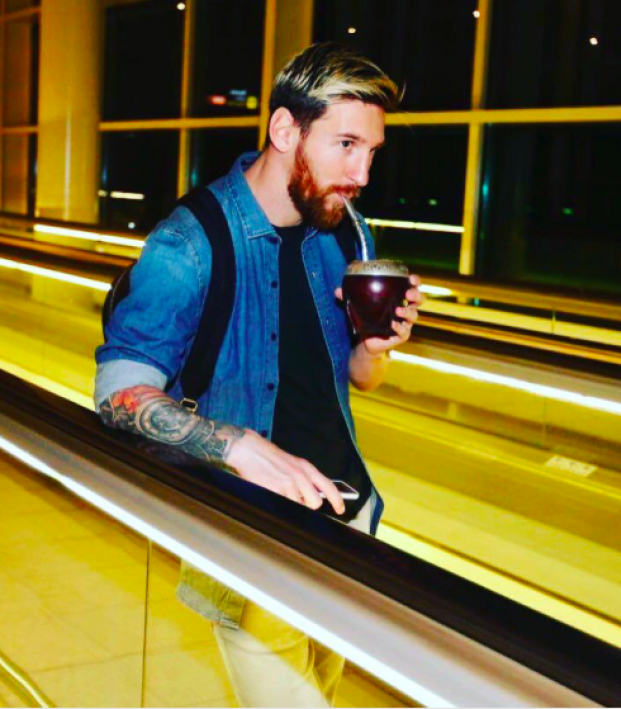guampa: (330, 199, 411, 342)
